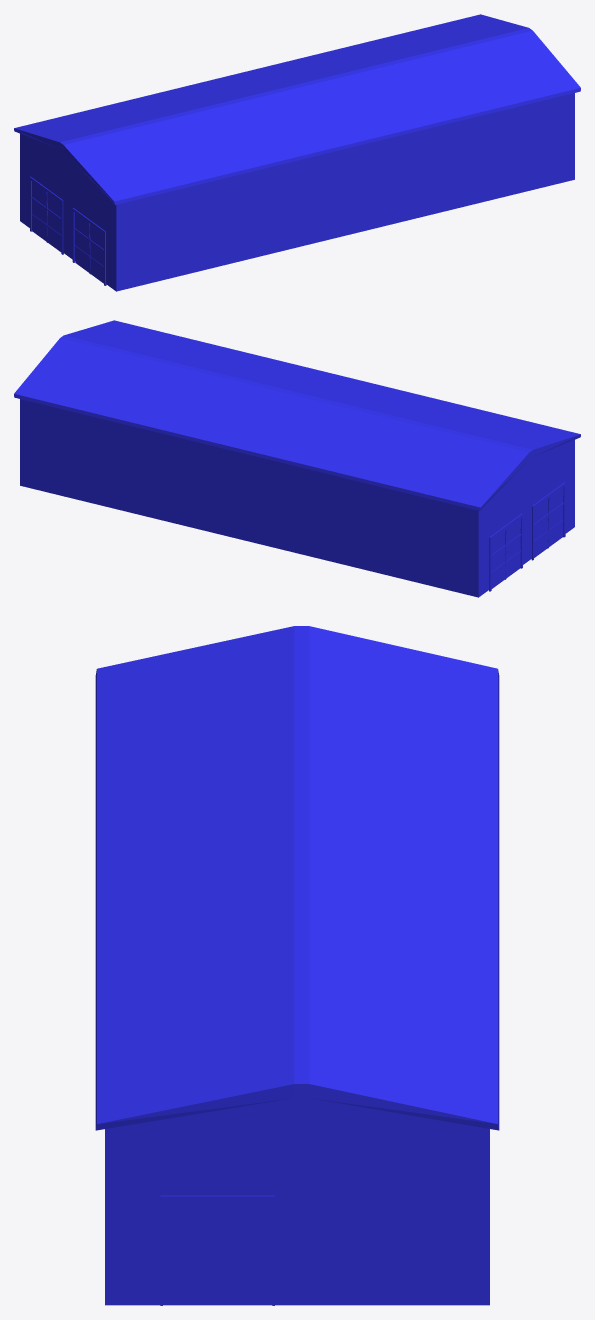
The model's file is Building_06.fbx.
3 renders of one model, top to bottom at view 1: azimuth 30°, elevation 25°; view 2: azimuth 150°, elevation 25°; view 3: azimuth 270°, elevation 25°, orthographic. The views are drawn at different scales.
Visible parts, largest first — view 1: Building_06; view 2: Building_06; view 3: Building_06.
Part boxes in pixels (<box>): Building_06: <box>14,14,580,291</box>; Building_06: <box>14,320,580,597</box>; Building_06: <box>95,626,499,1305</box>.
Size of the model in its own units: 3037 by 711 by 1131.
